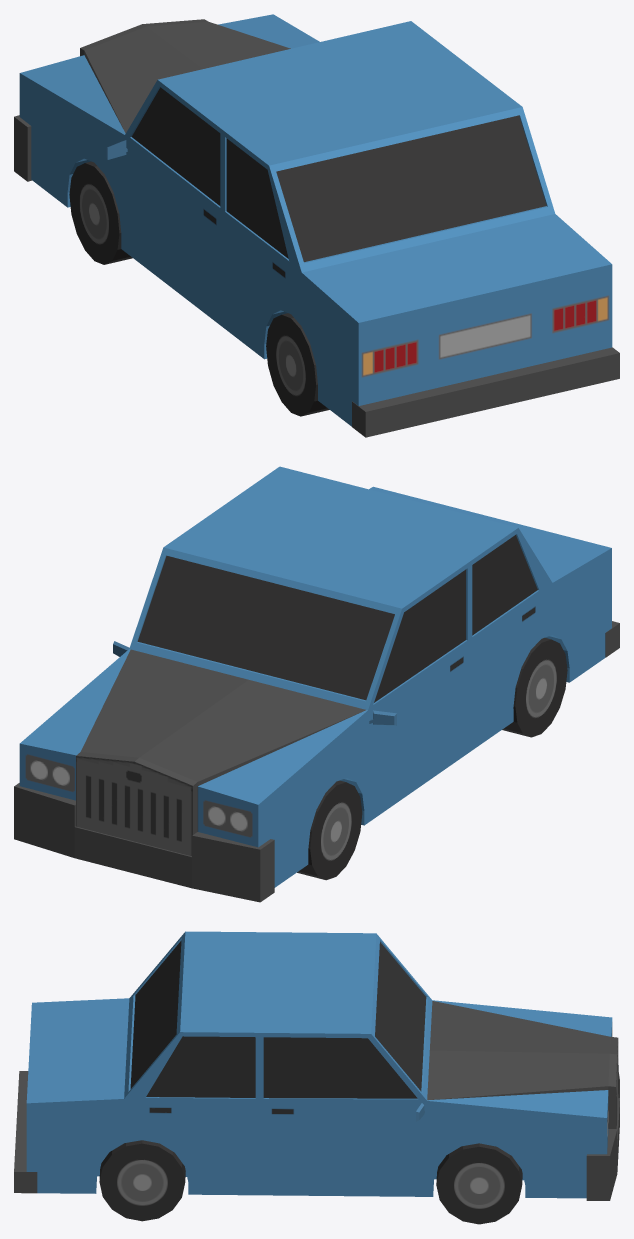
The model's file is rotatedcar.glb.
3 renders of one model, top to bottom at view 1: azimuth 30°, elevation 25°; view 2: azimuth 150°, elevation 25°; view 3: azimuth 270°, elevation 25°, orthographic. The views are drawn at different scales.
Visible parts, largest first — view 1: Vehicle_Car_Cube.050; view 2: Vehicle_Car_Cube.050; view 3: Vehicle_Car_Cube.050.
Part boxes in pixels (x1,y1,x2,y2): Vehicle_Car_Cube.050: [14, 14, 619, 437]; Vehicle_Car_Cube.050: [14, 466, 619, 902]; Vehicle_Car_Cube.050: [14, 931, 619, 1224].
Size of the model in its own units: 2.96 by 2.2 by 6.36.
1 material, 1 textured.
